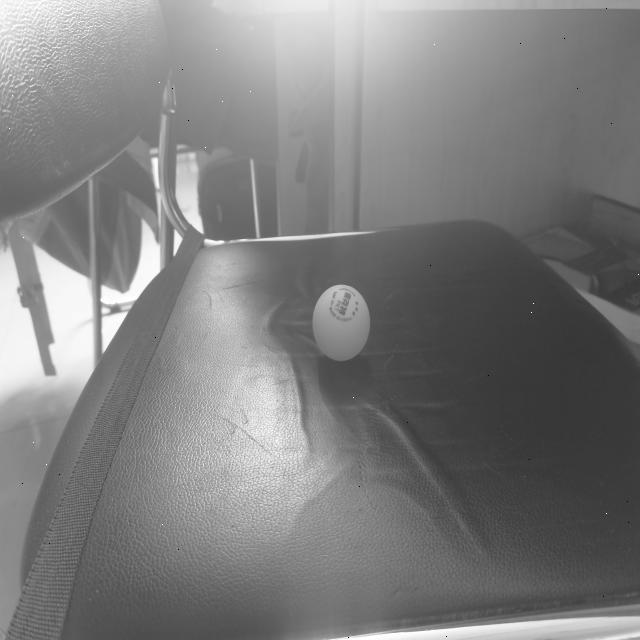ping-pong-ball: (312, 284, 372, 364)
